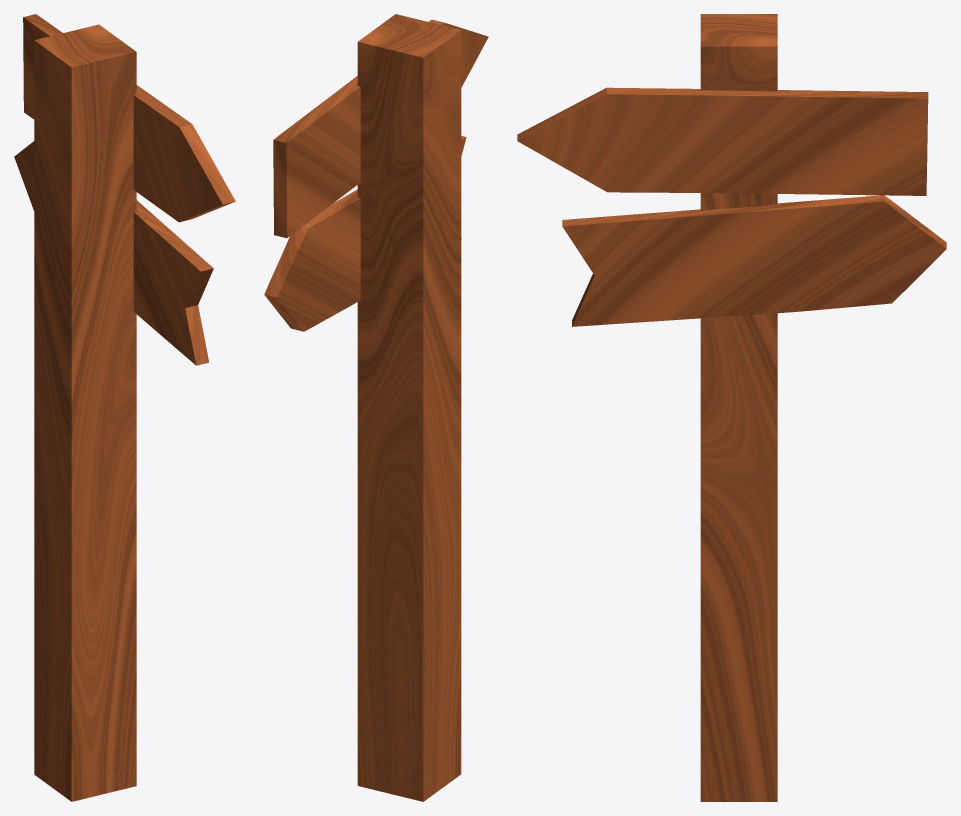
Rendered from Sign5.fbx.
The picture shows the model from 3 angles, left to right: view 1: azimuth 30°, elevation 25°; view 2: azimuth 150°, elevation 25°; view 3: azimuth 270°, elevation 25°; orthographic projection. The views are drawn at different scales.
Visible parts, largest first — view 1: Cube.012; view 2: Cube.012; view 3: Cube.012.
Boxes of the visible parts, x1=… form: Cube.012: x1=14, y1=14, x2=235, y2=801; Cube.012: x1=264, y1=14, x2=488, y2=801; Cube.012: x1=517, y1=14, x2=946, y2=801.
Bounding box in the file's own units: 20.8 × 195 × 100.
Materials: 1 (1 with a texture image).
